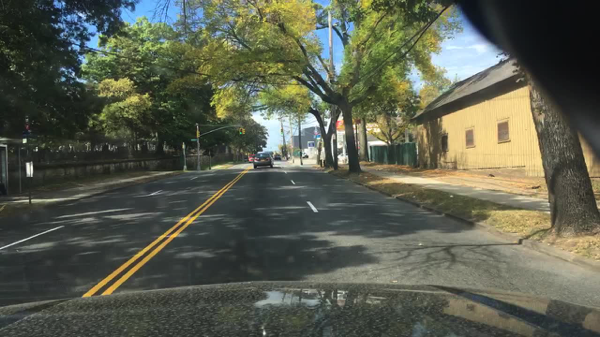car: (253, 152, 272, 169), (272, 153, 281, 160), (249, 154, 256, 163)
traffic light: (239, 129, 243, 136), (197, 131, 200, 138)
traffic sign: (26, 160, 34, 179), (316, 134, 320, 140), (190, 139, 197, 142)
